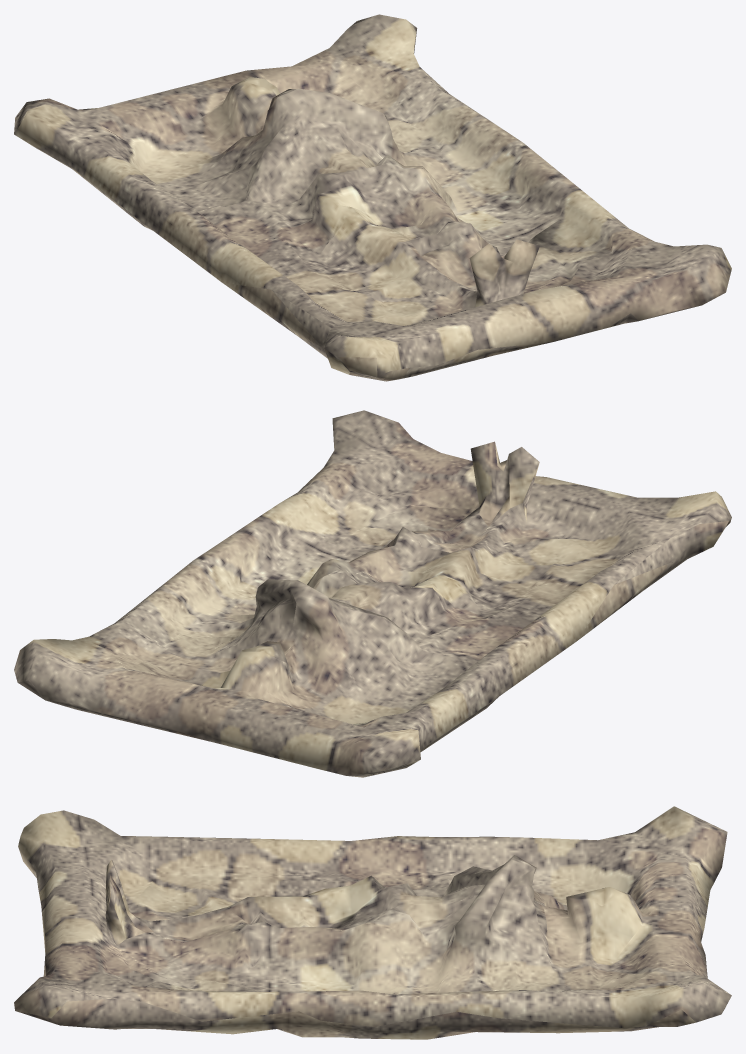
Rendered from SM_LowPoly_Sarcophagus_Top.fbx.
3 renders of one model, top to bottom at view 1: azimuth 30°, elevation 25°; view 2: azimuth 150°, elevation 25°; view 3: azimuth 270°, elevation 25°, orthographic.
Parts seen in each view (by area): view 1: Cube_010; view 2: Cube_010; view 3: Cube_010.
Part boxes in pixels (x1=…): Cube_010: x1=14, y1=14, x2=731, y2=381; Cube_010: x1=14, y1=410, x2=731, y2=777; Cube_010: x1=14, y1=806, x2=731, y2=1039.
Size of the model in its own units: 161 by 39.87 by 250.
